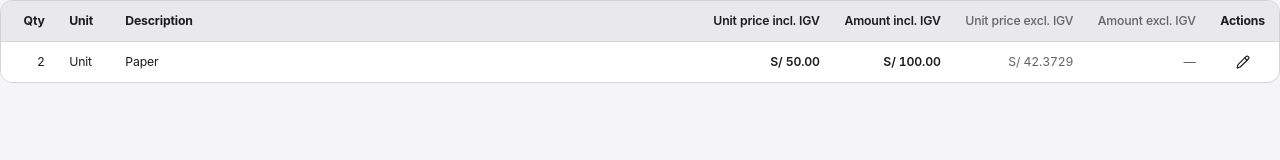
Scenario: short Items headers expose their full names in en
This screenshot has width=1280, height=160.
Expected: the column heading named "Unit price with IGV (Printed)" does not show "Printed", x1=701 y1=1 x2=832 y2=41
Focus the button with aria-label "Unit price with IGV (Printed)": [767, 21] box x1=713 y1=13 x2=820 y2=29
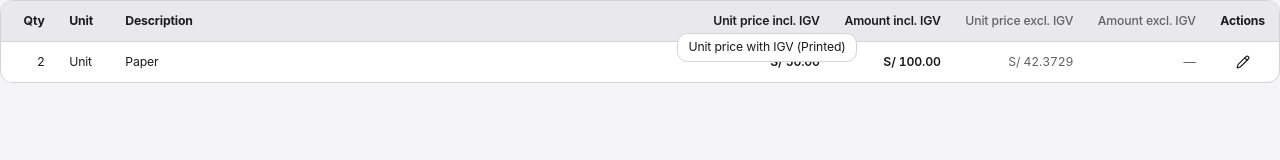
Expected: the tooltip reads "Unit price with IGV (Printed)", x1=688 y1=39 x2=846 y2=54
